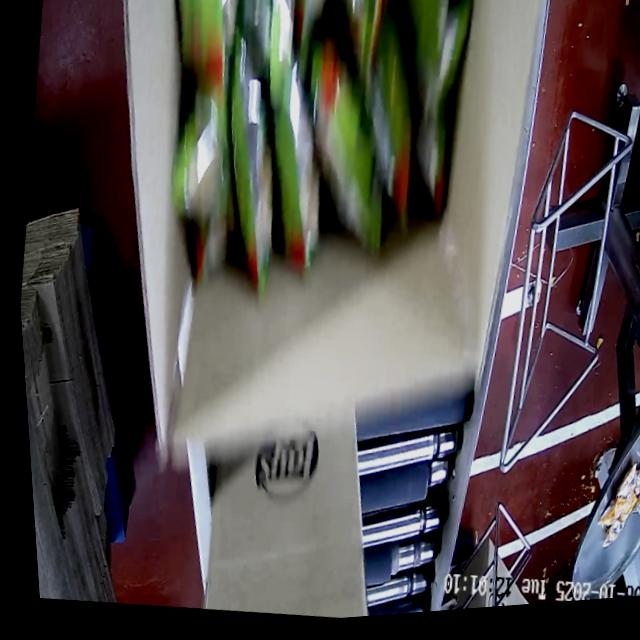YOGURT_HERB: (122, 0, 489, 312)
